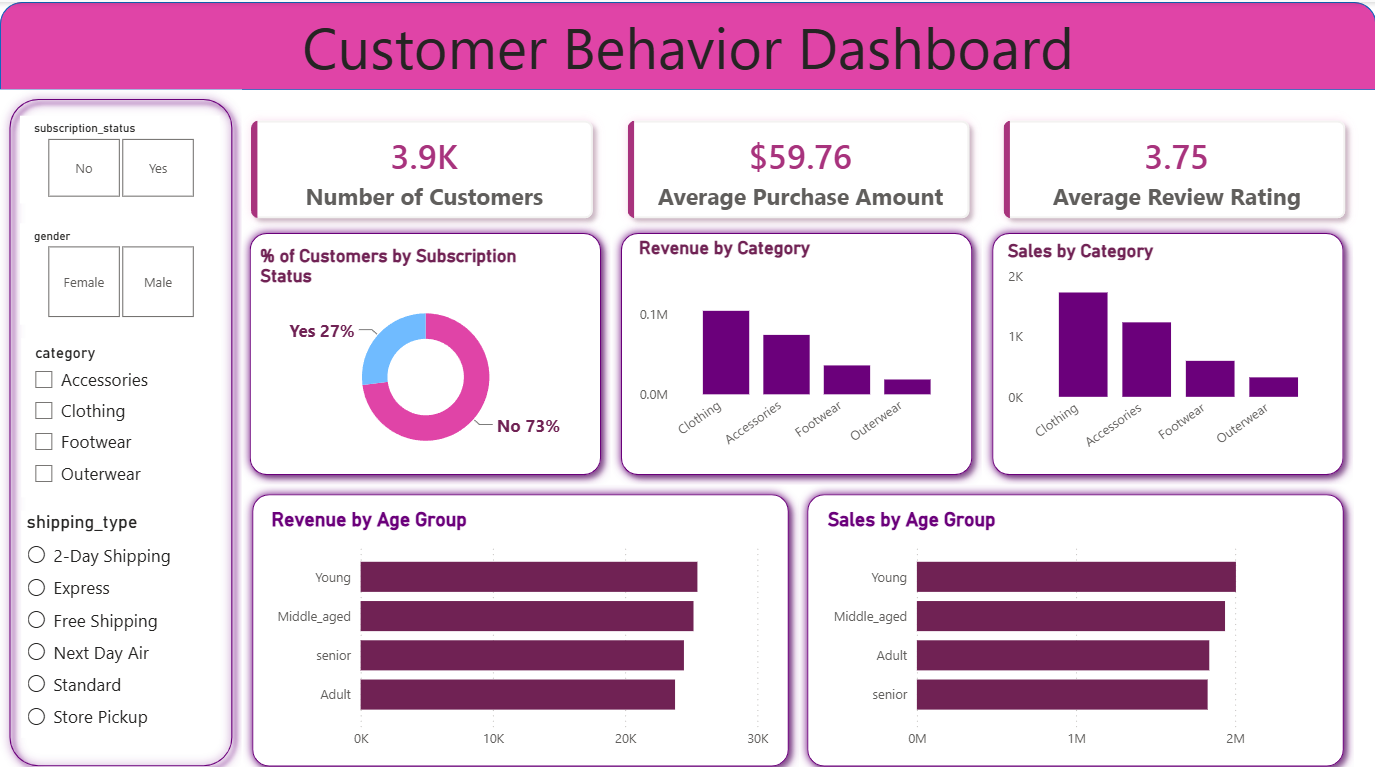

This screenshot's page, from the dashboard's own definition file:
{"tool":"powerbi","page":{"name":"Page 1","canvas":[1280,720],"ordinal":0},"visuals":[{"type":"cardVisual","fields":{"Data":["customers.Number of Customers","customers.Average Purchase Amount","customers.Average Review Rating"]},"box":[204.2,81.9,1076.1,149.2],"z":0},{"type":"shape","box":[0,0,1280.3,81.9],"z":1000},{"type":"textbox","box":[0,0,1280.3,81.9],"z":2000},{"type":"shape","box":[223.8,205.4,344.8,243.3],"z":3000},{"type":"donutChart","title":"% of Customers by Subscription Status","fields":{"Y":["CountNonNull(customers.customer_id)"],"Category":["customers.subscription_status"]},"box":[237.2,225,317.9,205.4],"z":4000},{"type":"shape","box":[913.5,205.4,344.8,243.3],"z":5000},{"type":"shape","box":[568.6,205.4,344.8,243.3],"z":6000},{"type":"shape","box":[225,448.8,517.3,271.5],"z":7000},{"type":"clusteredColumnChart","title":"Revenue by Category","fields":{"Category":["customers.category"],"Y":["Sum(customers.purchase_amount)"]},"box":[589.4,218.9,305.7,211.6],"z":8000},{"type":"clusteredColumnChart","title":"Sales by Category","fields":{"Category":["customers.category"],"Y":["CountNonNull(customers.customer_id)"]},"box":[933,221.3,305.7,211.6],"z":9000},{"type":"shape","box":[0,81.9,225,638.3],"z":10000},{"type":"slicer","fields":{"Values":["customers.subscription_status"]},"box":[18.3,106.4,185.9,81.9],"z":11000},{"type":"slicer","fields":{"Values":["customers.gender"]},"box":[18.3,205.4,185.9,94.2],"z":12000},{"type":"slicer","fields":{"Values":["customers.category"]},"box":[19.6,313,185.9,148],"z":13000},{"type":"listSlicer","fields":{"Values":["customers.shipping_type"]},"box":[19.6,473.2,184.6,211.6],"z":14000},{"type":"clusteredBarChart","title":"Revenue by Age Group","fields":{"Y":["Sum(customers.previous_purchases)"],"Category":["customers.age_group"]},"box":[248.2,470.8,472,232.3],"z":15000},{"type":"shape","box":[742.3,448.8,517.3,271.5],"z":16000},{"type":"clusteredBarChart","title":"Sales by Age Group","fields":{"Y":["Sum(customers.customer_id)"],"Category":["customers.age_group"]},"box":[765.5,470.8,472,232.3],"z":17000}]}

Visuals, with their boxes in screenshot pixels (x1, y1, x2, y2), scaled from the page's 1280x720 canvas onto the 1375x767 screenshot:
cardVisual - customers.Number of Customers x customers.Average Purchase Amount: box(219, 87, 1374, 246)
shape: box(0, 0, 1374, 87)
textbox: box(0, 0, 1374, 87)
shape: box(240, 219, 611, 478)
"% of Customers by Subscription Status" donutChart: box(255, 240, 596, 458)
shape: box(981, 219, 1352, 478)
shape: box(611, 219, 981, 478)
shape: box(242, 478, 797, 766)
"Revenue by Category" clusteredColumnChart: box(633, 233, 962, 459)
"Sales by Category" clusteredColumnChart: box(1002, 236, 1331, 461)
shape: box(0, 87, 242, 766)
slicer - customers.subscription_status: box(20, 113, 219, 201)
slicer - customers.gender: box(20, 219, 219, 319)
slicer - customers.category: box(21, 333, 221, 491)
listSlicer - customers.shipping_type: box(21, 504, 219, 730)
"Revenue by Age Group" clusteredBarChart: box(267, 502, 774, 749)
shape: box(797, 478, 1353, 766)
"Sales by Age Group" clusteredBarChart: box(822, 502, 1329, 749)
